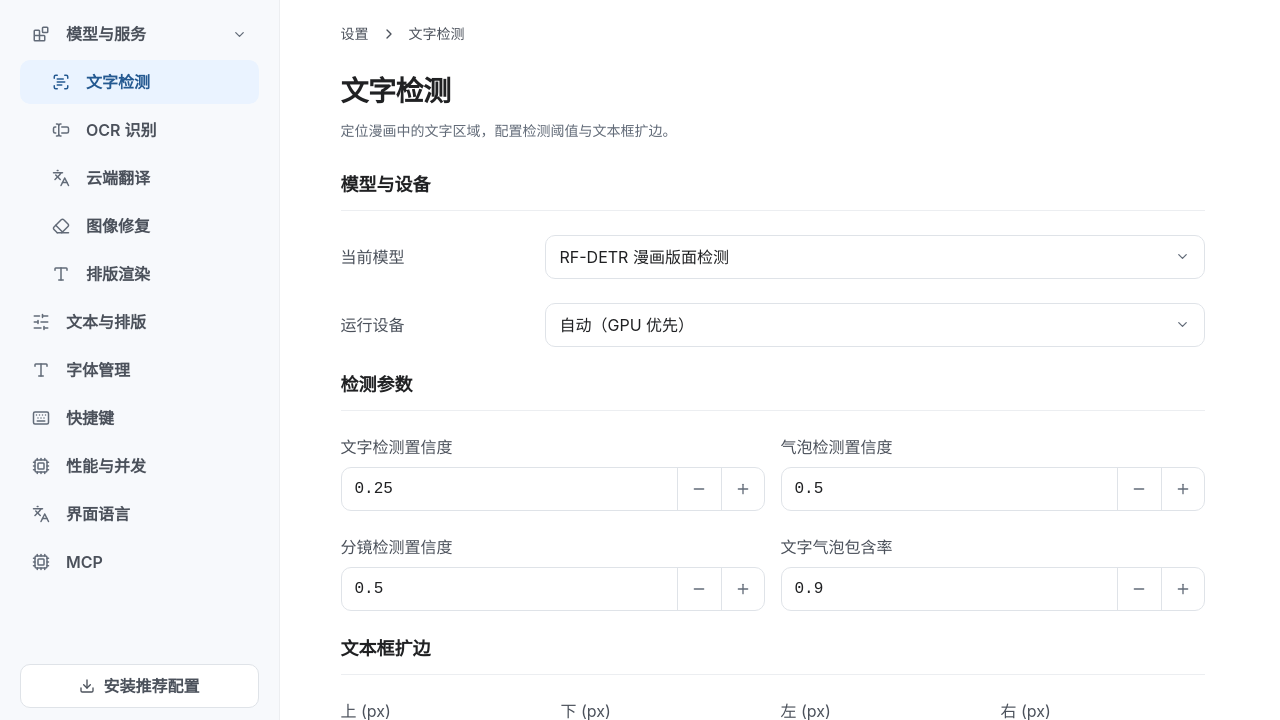
Test: recommended local setup › deduplicates rapid clicks during the installation check
Click the button "安装推荐配置" at [140, 686], box top-left (20, 664), bottom-right (259, 708)
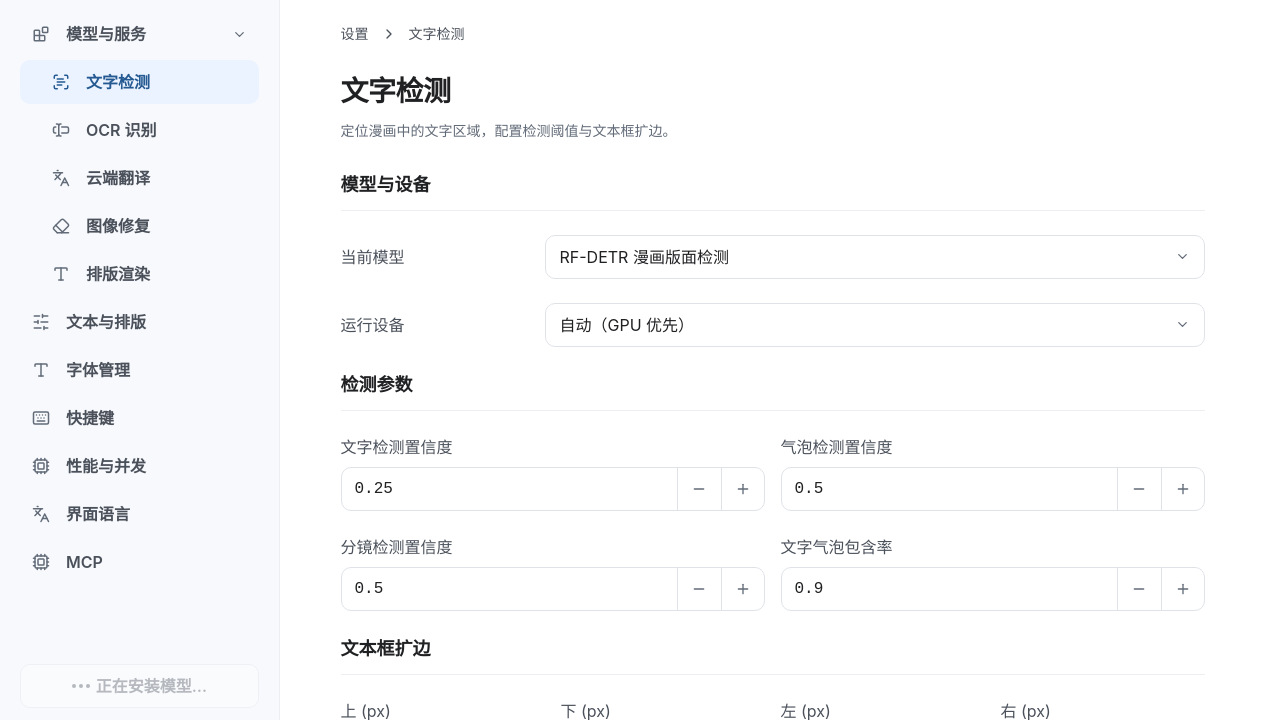
Click the button named "安装推荐配置" at [140, 686], box top-left (20, 664), bottom-right (259, 708)
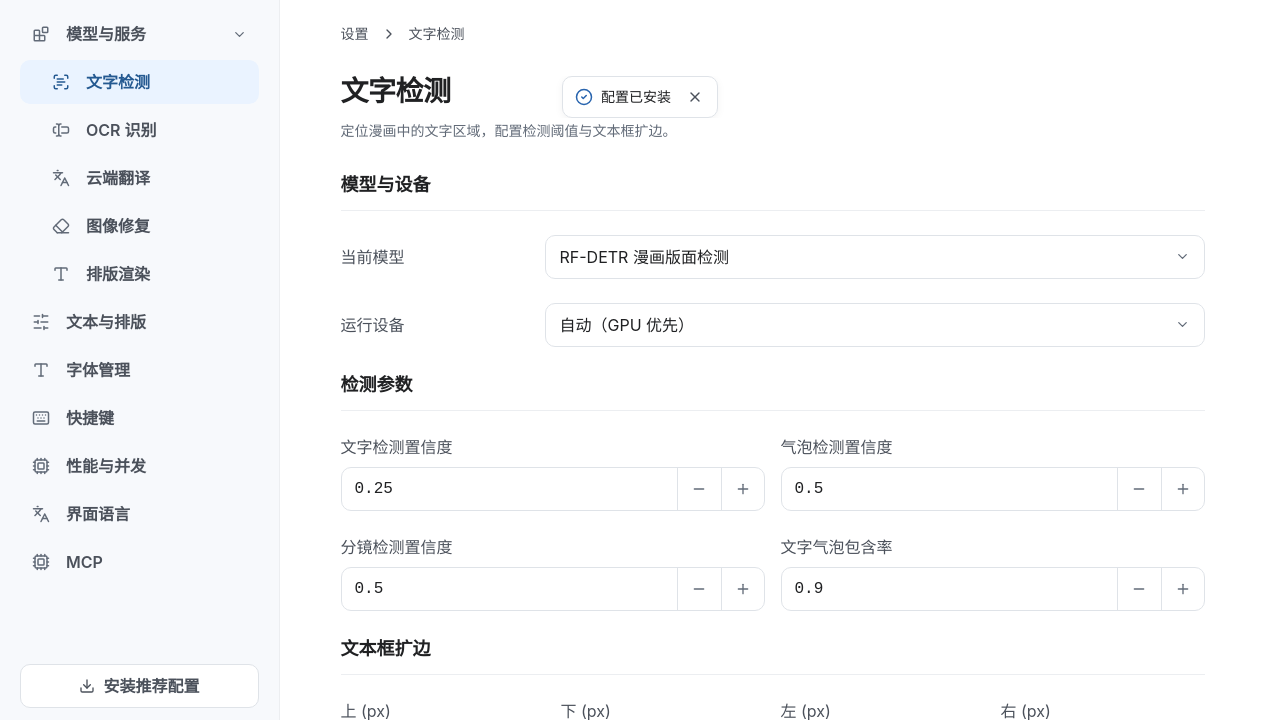
Result: the text "配置已安装" is shown at top-left (601, 83), bottom-right (671, 111)
